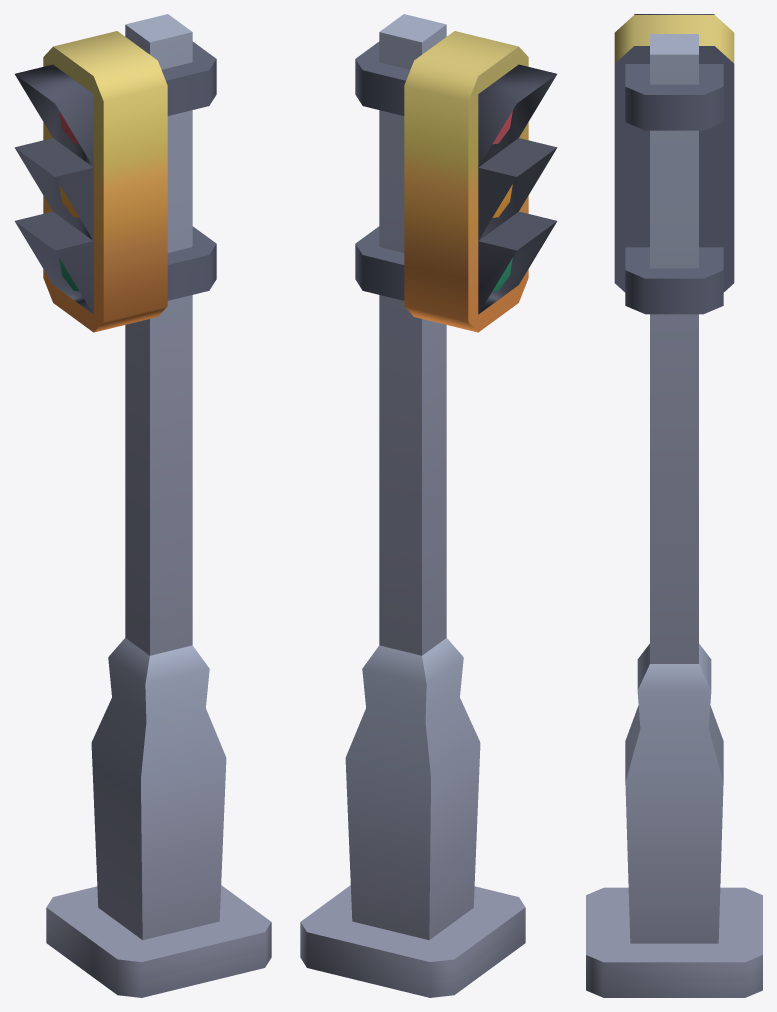
The model's file is road_traffic_light.glb.
3 views of the same model, side by side, from view 1: azimuth 30°, elevation 25°; view 2: azimuth 150°, elevation 25°; view 3: azimuth 270°, elevation 25° (orthographic).
Visible parts, largest first — view 1: traffic-light; view 2: traffic-light; view 3: traffic-light.
Boxes of the visible parts, box(x1,y1,x2,y2) form: traffic-light: box(14, 14, 271, 997); traffic-light: box(300, 14, 557, 997); traffic-light: box(586, 14, 762, 997).
Size of the model in its own units: 0.1176 by 0.515 by 0.09.
Materials: 1 (1 with a texture image).
